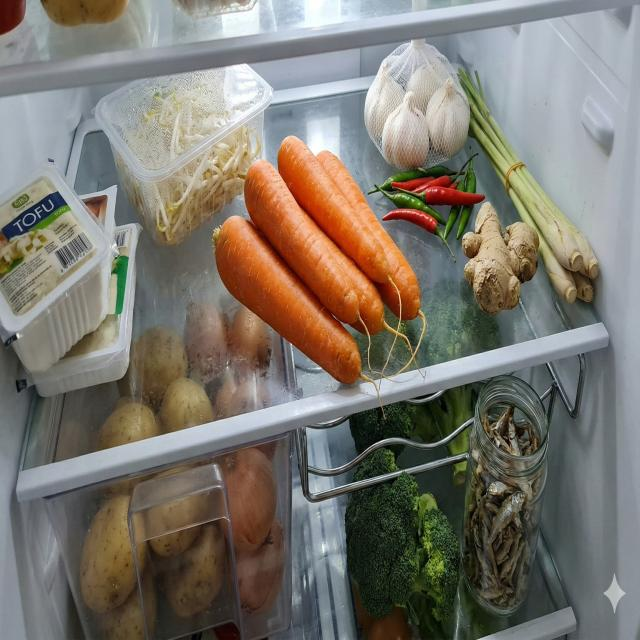anchovies: (461, 402, 541, 615)
bean_sprouts: (119, 87, 261, 247)
brocolli: (344, 447, 460, 625), (422, 278, 502, 486)
carrot: (215, 136, 422, 384)
chili: (367, 146, 486, 264)
garlic: (364, 38, 470, 173)
ginger: (462, 201, 540, 316)
lemongrass: (454, 68, 600, 305)
onion: (220, 447, 285, 617)
potato: (80, 461, 228, 640), (96, 325, 214, 452)
tofu: (0, 158, 110, 377)
